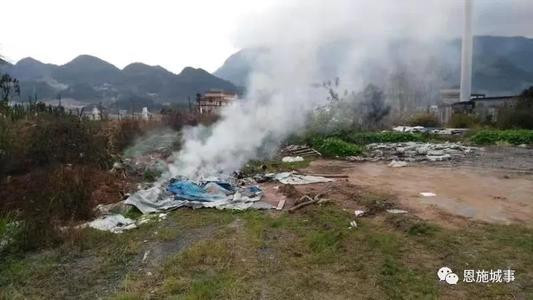smoke: (237, 5, 436, 133)
